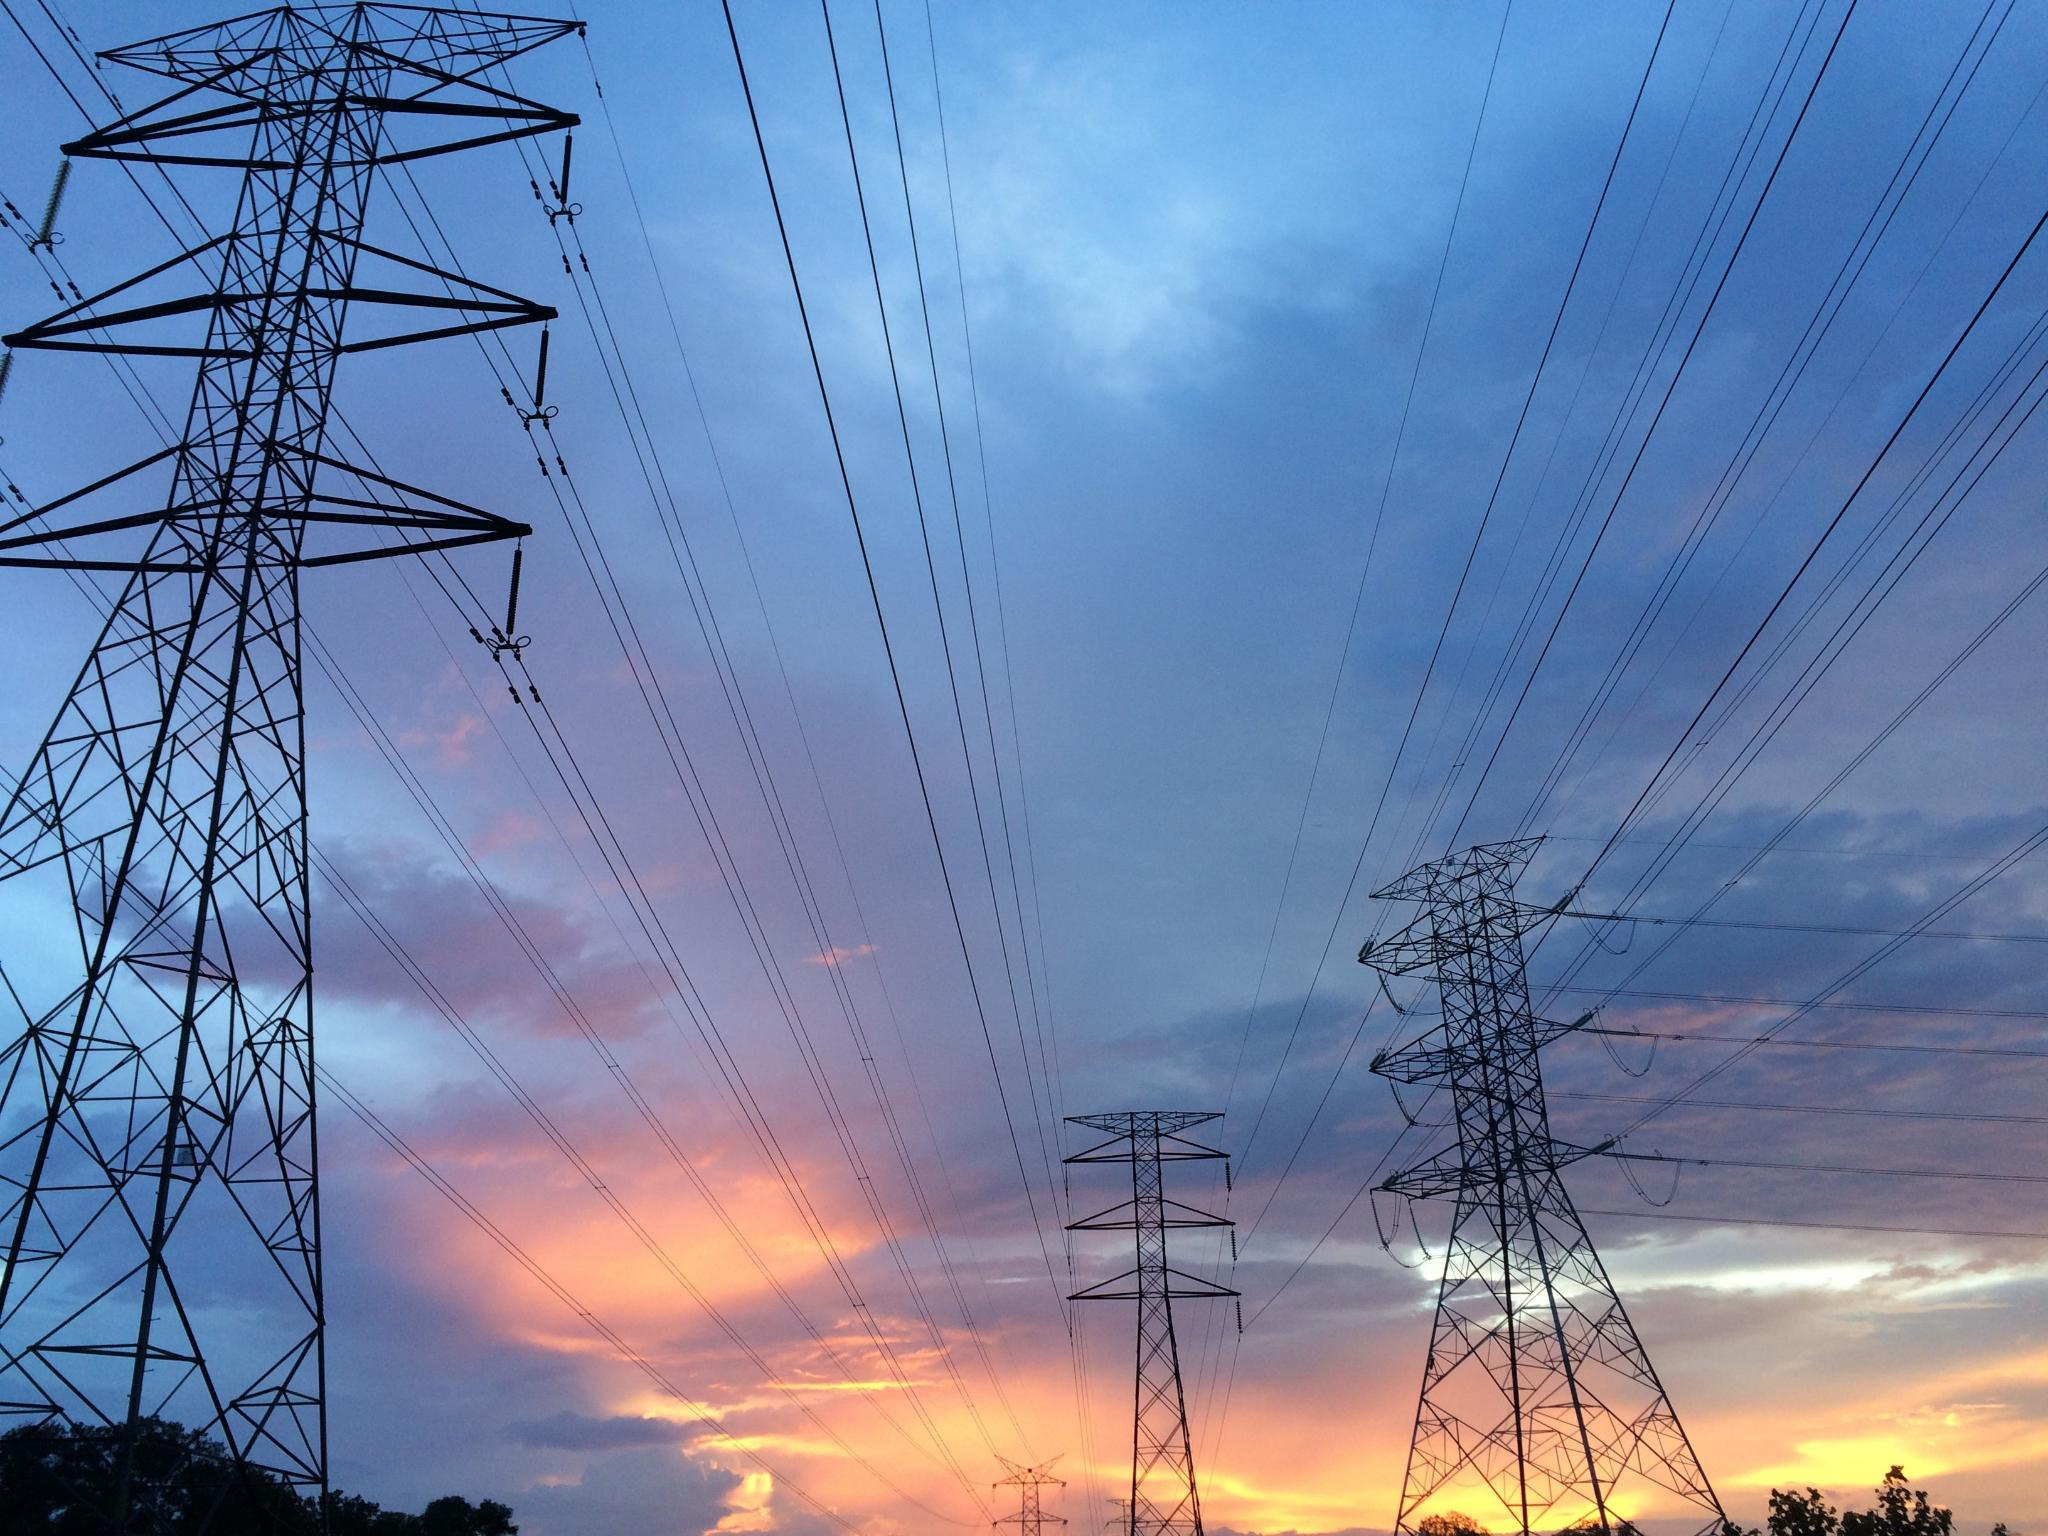cable tower: (0, 0, 658, 1530), (1327, 816, 1787, 1536), (998, 1044, 1321, 1536), (979, 1434, 1092, 1536)
